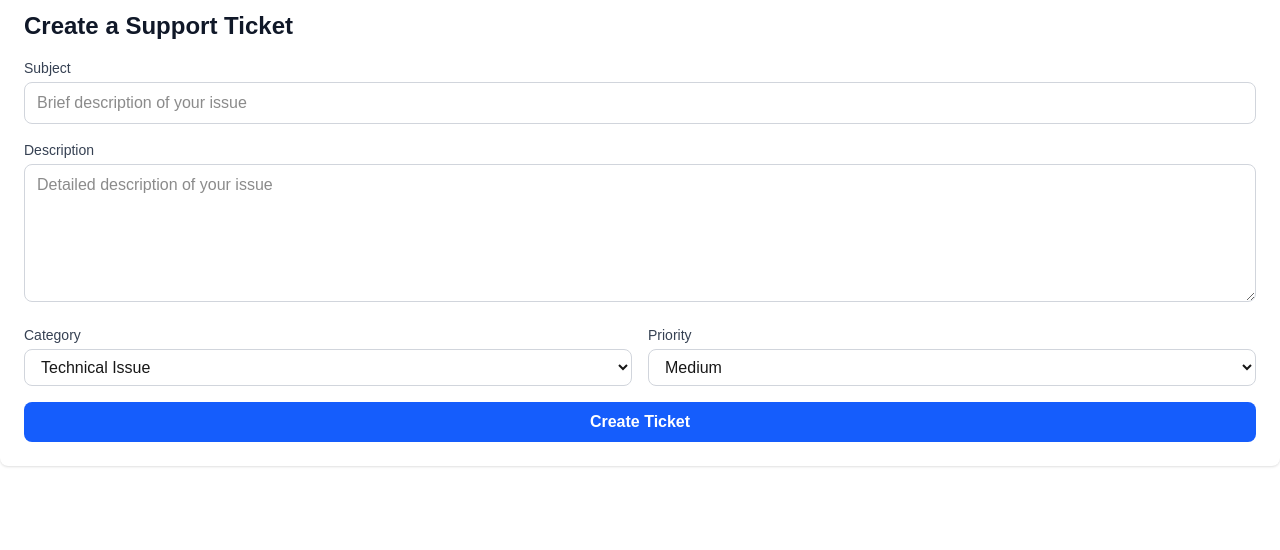
Test: Support Components › TicketForm Component › should display error message on submission failure
In the field with placeholder "Brief description of your issue": (640, 103) x1=24 y1=82 x2=1256 y2=124, type "Test"
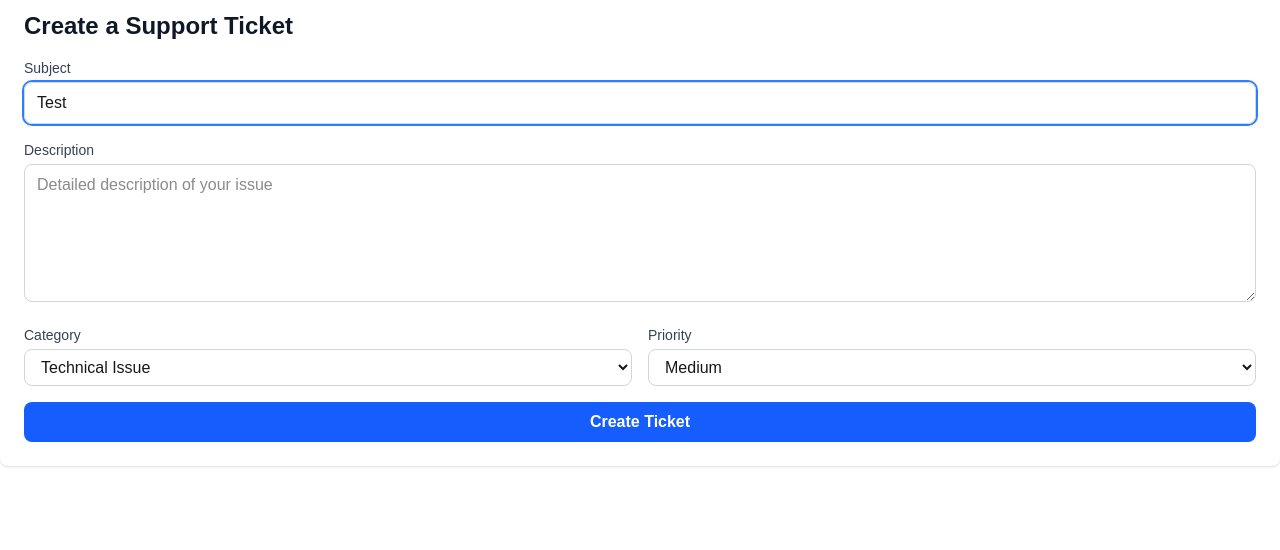
In the text box with placeholder "Detailed description of your issue": (640, 233) x1=24 y1=164 x2=1256 y2=302, type "Test description"
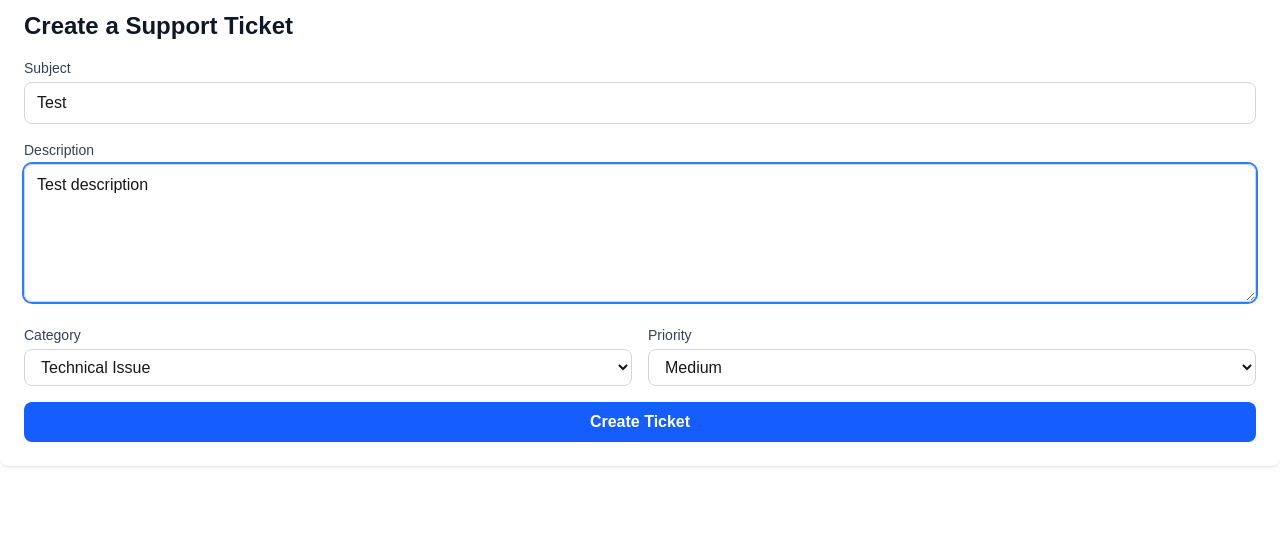
Click the button "Create Ticket": (640, 422) x1=24 y1=402 x2=1256 y2=442
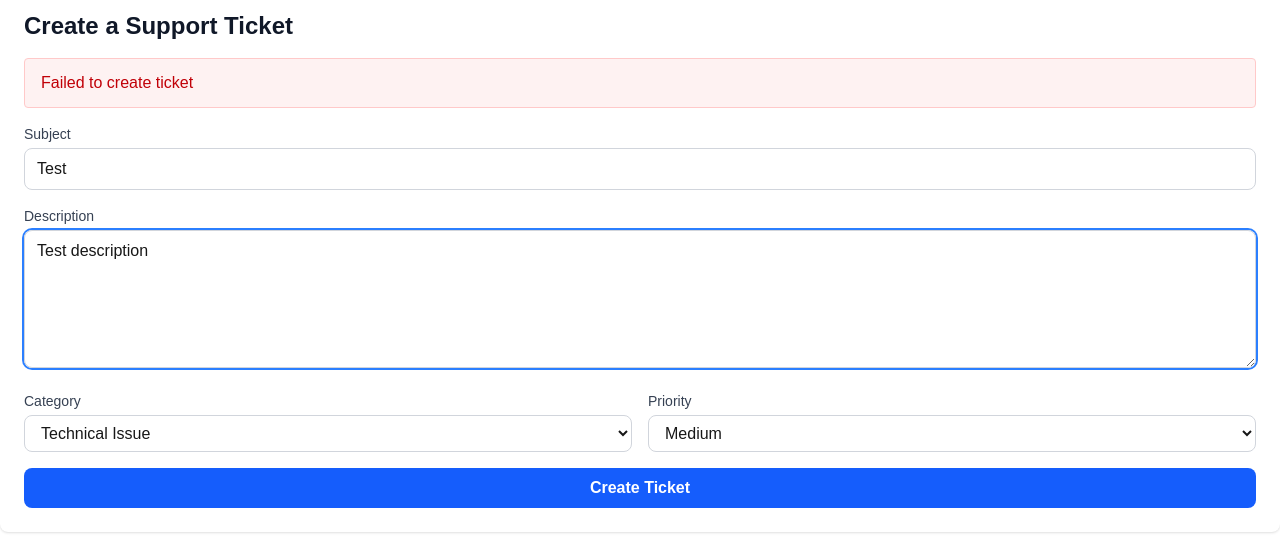
Expected: the text "Failed to create ticket" is shown, x1=24 y1=58 x2=1256 y2=108
